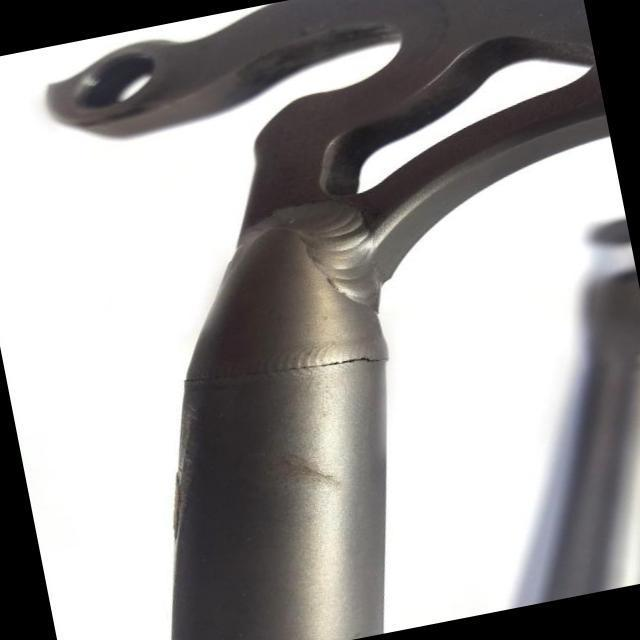defect: (180, 356, 392, 383)
